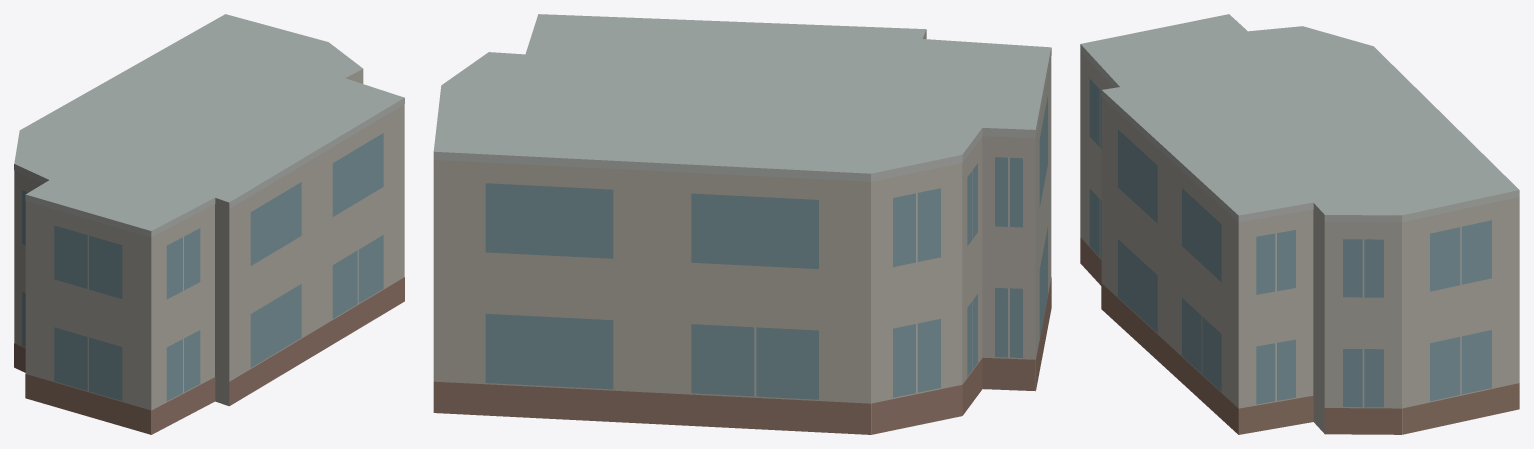
Rendered from survey-upis-32954086.glb.
The picture shows the model from 3 angles, left to right: view 1: azimuth 30°, elevation 25°; view 2: azimuth 150°, elevation 25°; view 3: azimuth 270°, elevation 25°; orthographic projection. The views are drawn at different scales.
Visible parts, largest first — view 1: survey-upis-32954086.tmp; view 2: survey-upis-32954086.tmp; view 3: survey-upis-32954086.tmp.
Part boxes in pixels (x1=…): survey-upis-32954086.tmp: x1=14, y1=14, x2=404, y2=434; survey-upis-32954086.tmp: x1=433, y1=14, x2=1051, y2=434; survey-upis-32954086.tmp: x1=1080, y1=14, x2=1519, y2=434.
Size of the model in its own units: 15.28 by 7.75 by 14.07.
